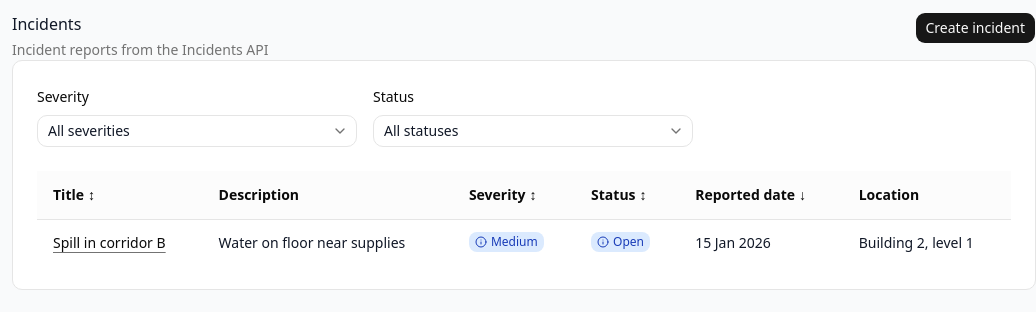
it: IncidentsView › keeps DataTable mounted and announces refetch status when severity filter changes
Expected: the element named "Incidents list, scrollable" is shown, 37,171 -> 1011,265
Click the dropdown named "Severity" at (89, 130), box 37,115 -> 357,147
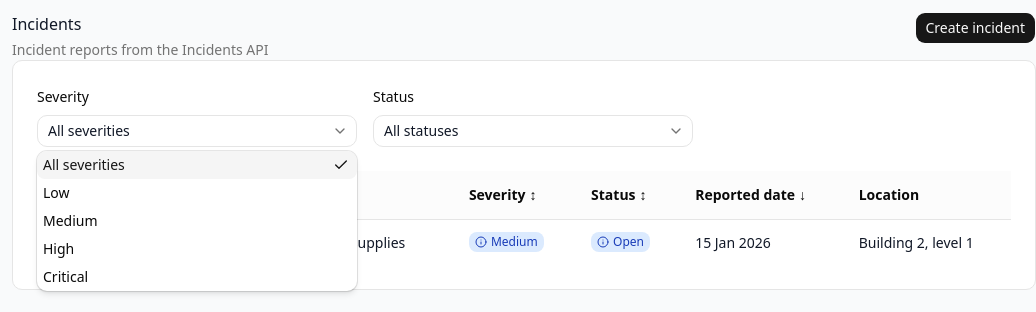
Click the option "High" at (59, 248), box 43,239 -> 74,258
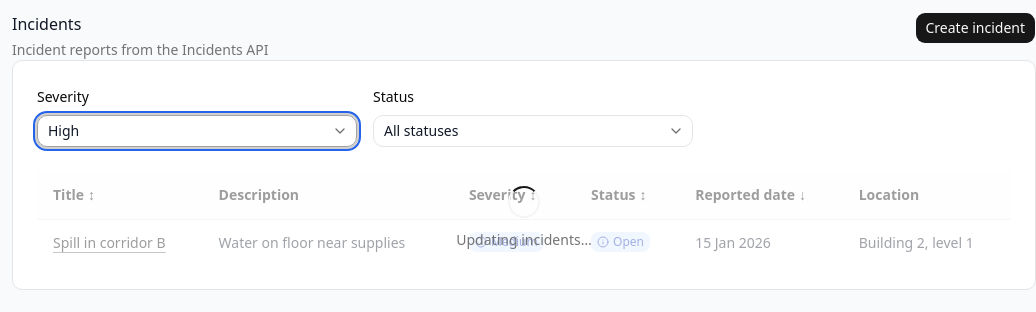
Expected: the element named "Incidents list, scrollable" is shown, 37,171 -> 1011,265
Result: the message reads "Updating incidents…" at 456,230 -> 592,249
